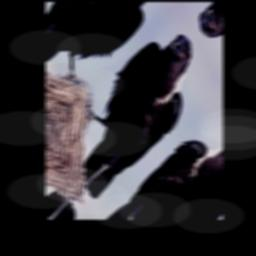Crow: (52, 12, 215, 210)
